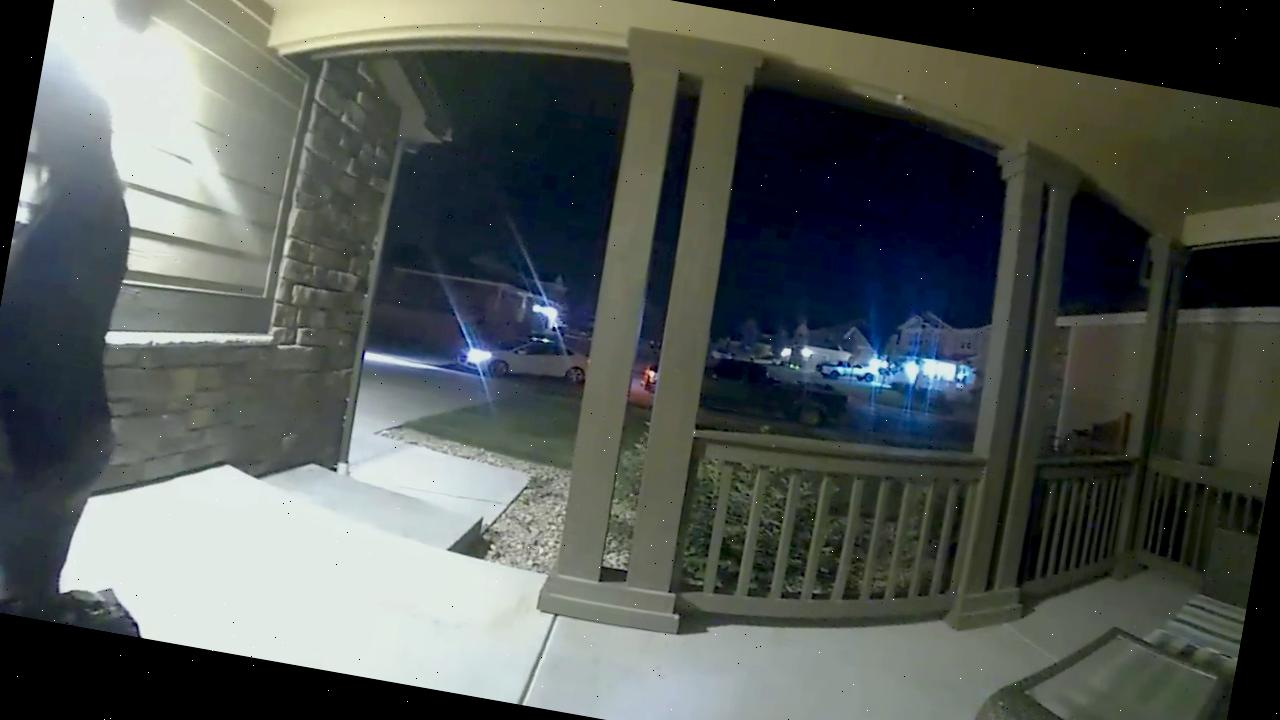suspicion: (0, 30, 225, 634)
